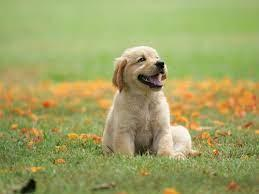Dog: (111, 44, 169, 94)
